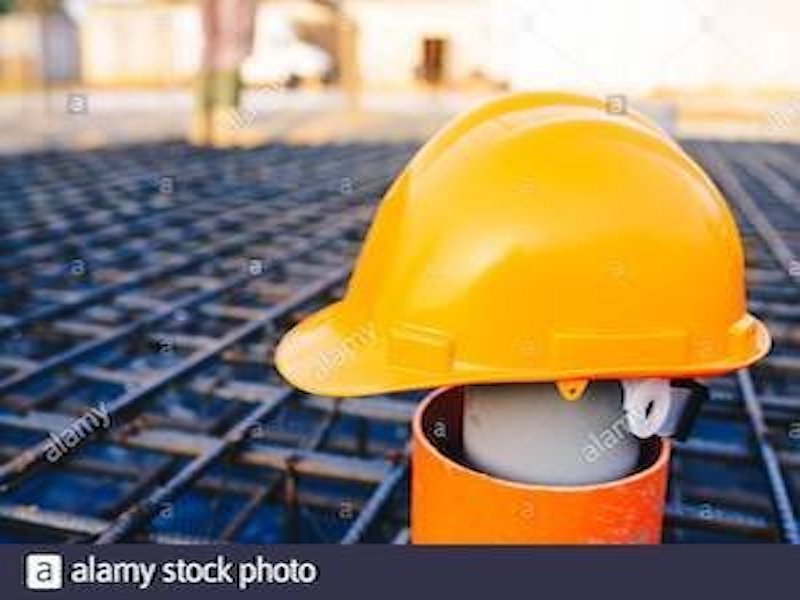safety: (276, 91, 763, 396)
